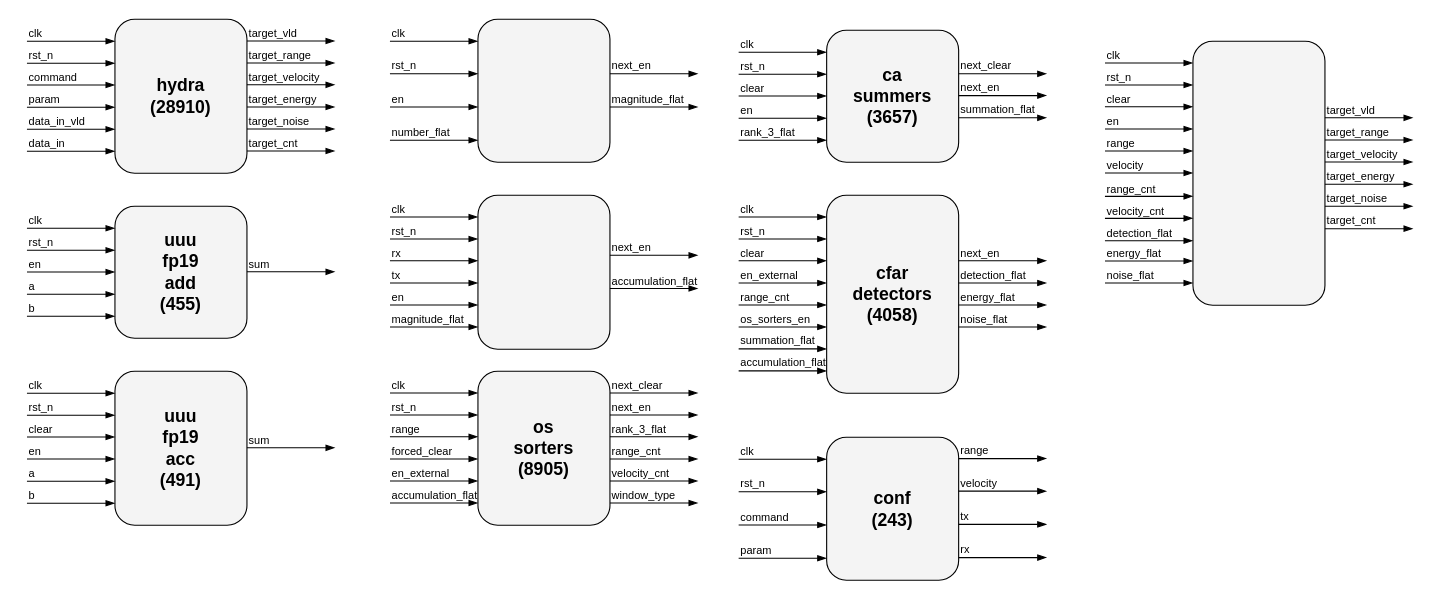
This 1441x600 diagram has some shape labels left out. Here are the shapes that lost their labels. From the top down, the centre of each, then its label:
At point (543, 90): "magnitude estimators (3864)".
At point (1258, 172): "buffers (2843)".
At point (543, 271): "magnitude accumulators (4489)".
